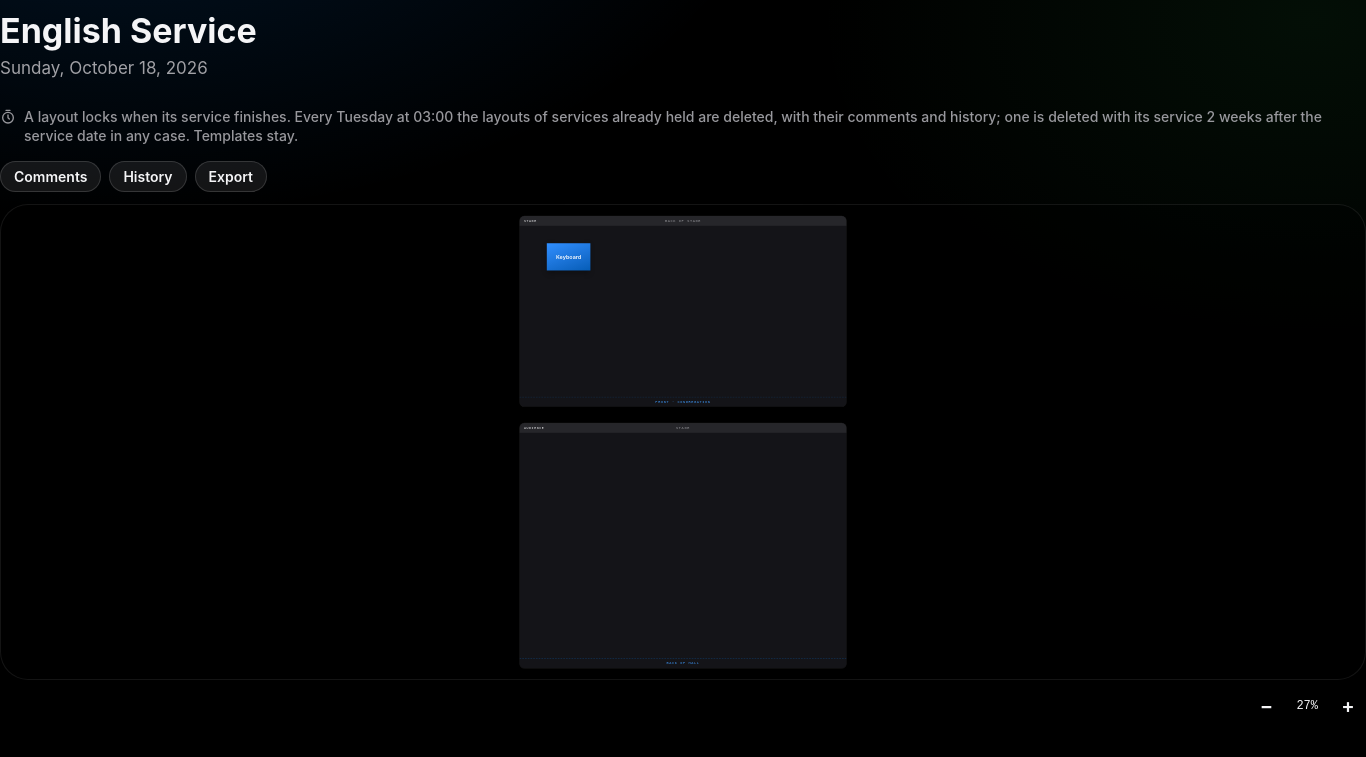
Test: a session’s stage › shows somebody who may only look the stage, and none of the tools
Step 1. Click the button "Keyboard" → (569, 257), box [547, 243, 590, 270]
(page scrolled)
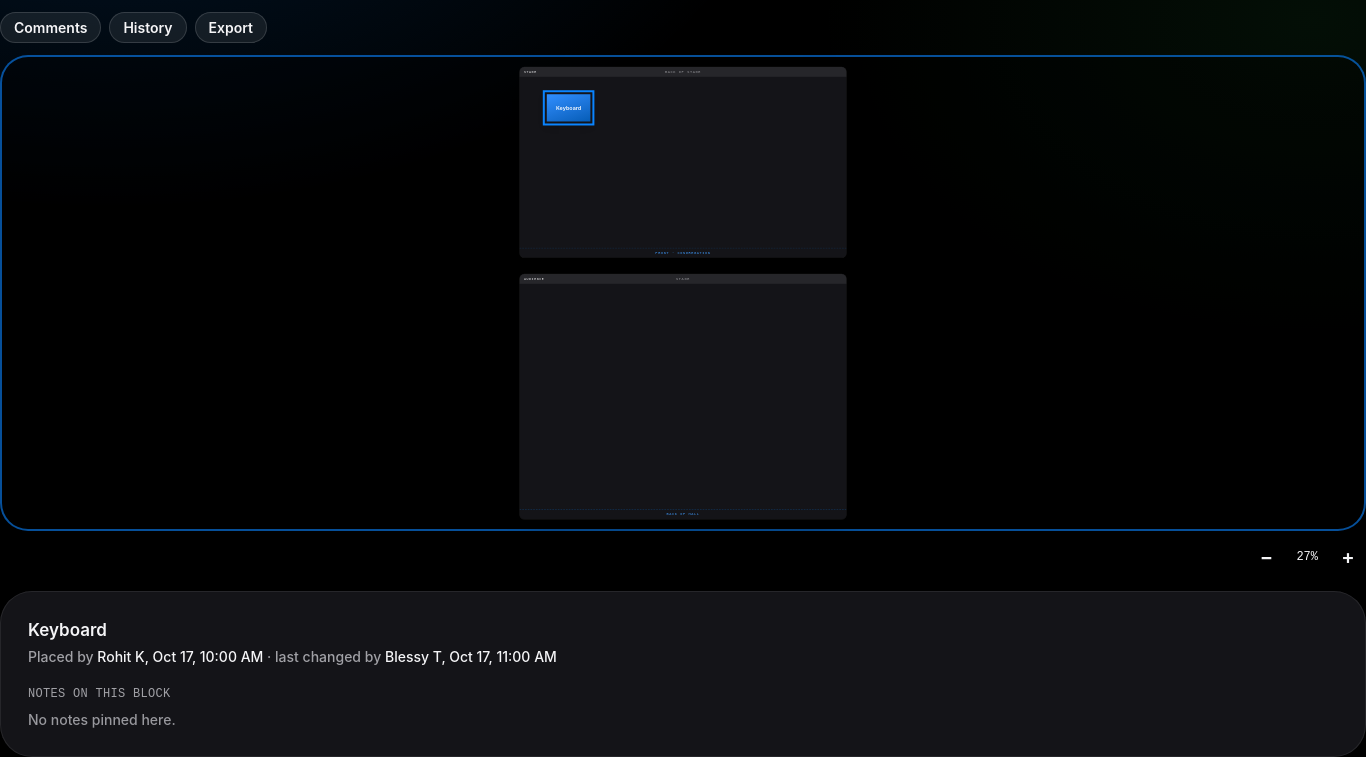
Expected: the text "Placed by" is shown, [28, 648, 97, 665]
